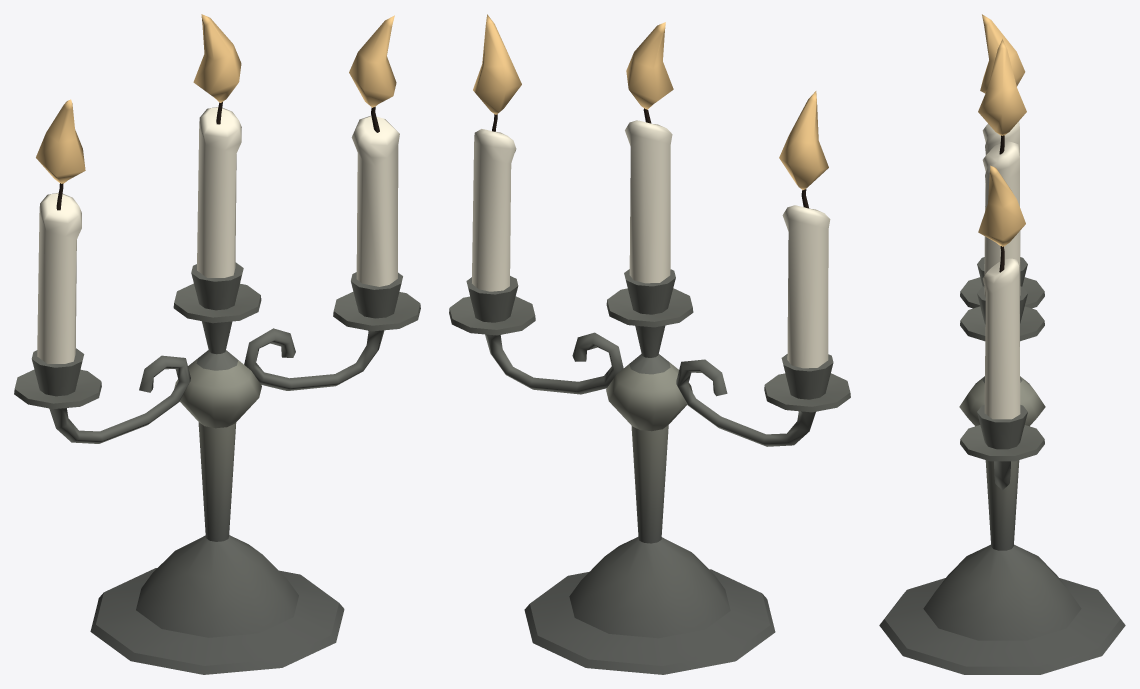
File: Candelabrum_B.fbx
3 views of the same model, side by side, from view 1: azimuth 30°, elevation 25°; view 2: azimuth 150°, elevation 25°; view 3: azimuth 270°, elevation 25° (orthographic). The views are drawn at different scales.
Parts seen in each view (by area): view 1: Candelabrum_B; view 2: Candelabrum_B; view 3: Candelabrum_B.
Boxes of the visible parts, box(x1,y1,x2,y2) form: Candelabrum_B: box(14, 14, 420, 674); Candelabrum_B: box(449, 14, 850, 674); Candelabrum_B: box(879, 14, 1125, 674).
Bounding box in the file's own units: 54.95 × 81.56 × 31.46.
